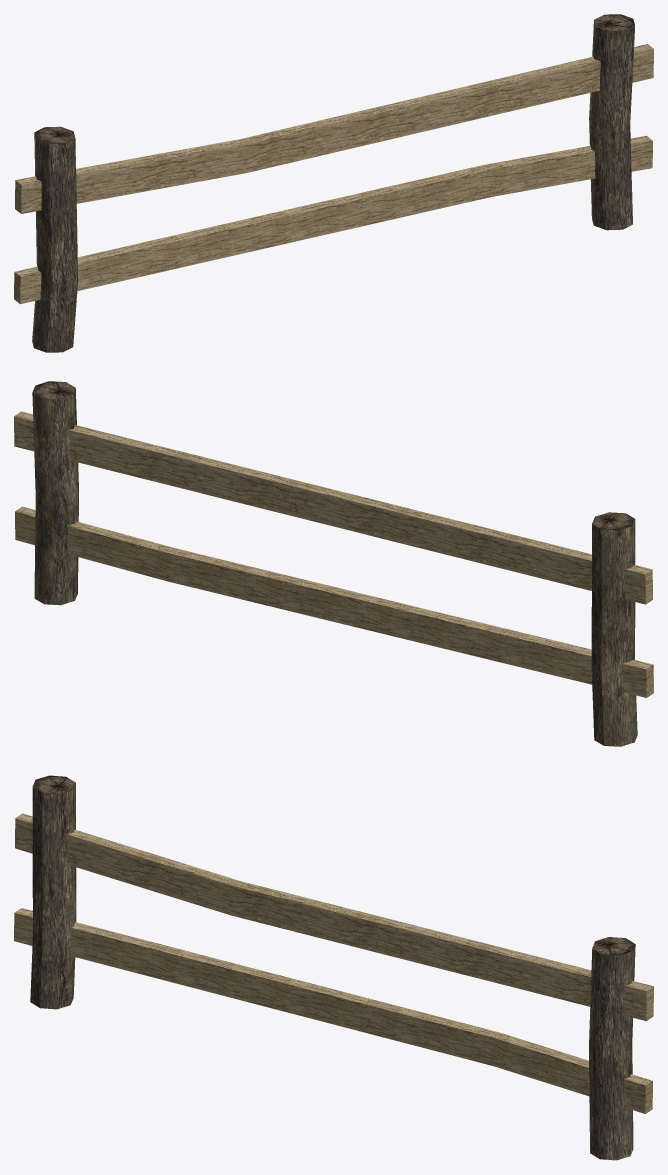
Rendered from fence.obj.
3 views of the same model, one above another, from view 1: azimuth 30°, elevation 25°; view 2: azimuth 150°, elevation 25°; view 3: azimuth 330°, elevation 25° (orthographic). The views are drawn at different scales.
Visible parts, largest first — view 1: wooden_fence_large_2poles; view 2: wooden_fence_large_2poles; view 3: wooden_fence_large_2poles.
Boxes of the visible parts, x1,y1,x2,y2 form: wooden_fence_large_2poles: [14, 14, 653, 352]; wooden_fence_large_2poles: [14, 381, 653, 746]; wooden_fence_large_2poles: [14, 775, 653, 1160].
Size of the model in its own units: 1 by 0.3275 by 0.0878.
Materials: 3 (3 with a texture image).
